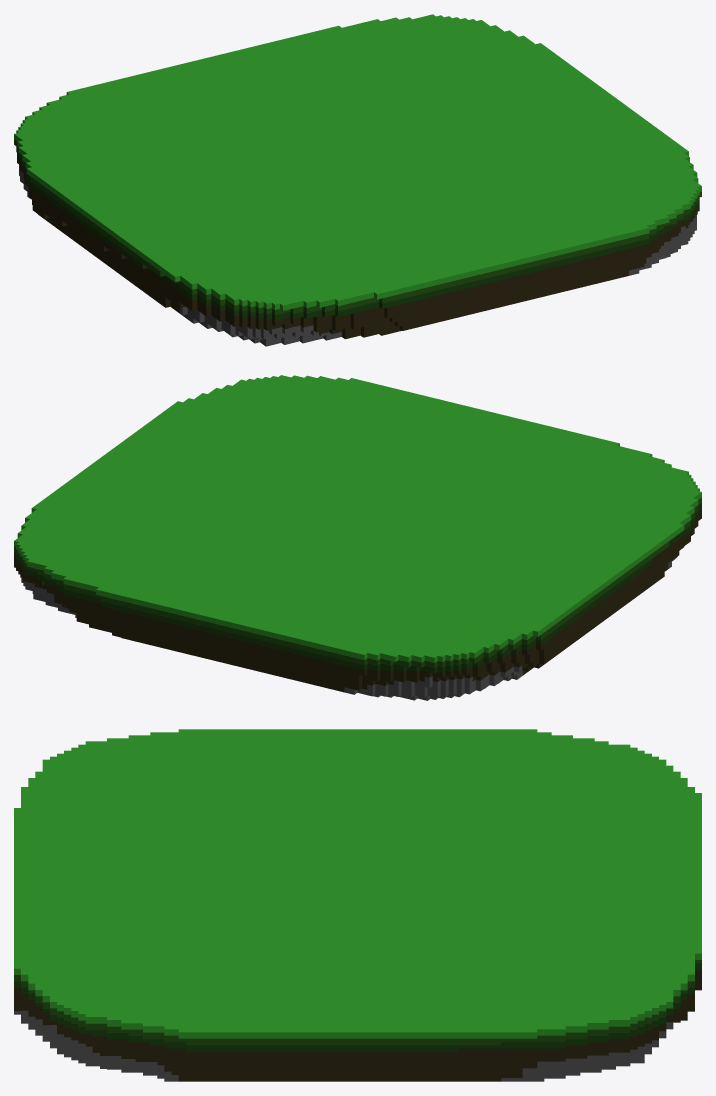
Rendered from CircleIsland.obj.
The picture shows the model from 3 angles, top to bottom: view 1: azimuth 30°, elevation 25°; view 2: azimuth 150°, elevation 25°; view 3: azimuth 270°, elevation 25°; orthographic projection. The views are drawn at different scales.
Visible parts, largest first — view 1: CircleIsland; view 2: CircleIsland; view 3: CircleIsland.
Boxes of the visible parts, x1,y1,x2,y2 form: CircleIsland: [14, 14, 701, 346]; CircleIsland: [14, 375, 701, 700]; CircleIsland: [14, 729, 701, 1081].
Size of the model in its own units: 15 by 1.35 by 14.4.
Materials: 1 (1 with a texture image).
